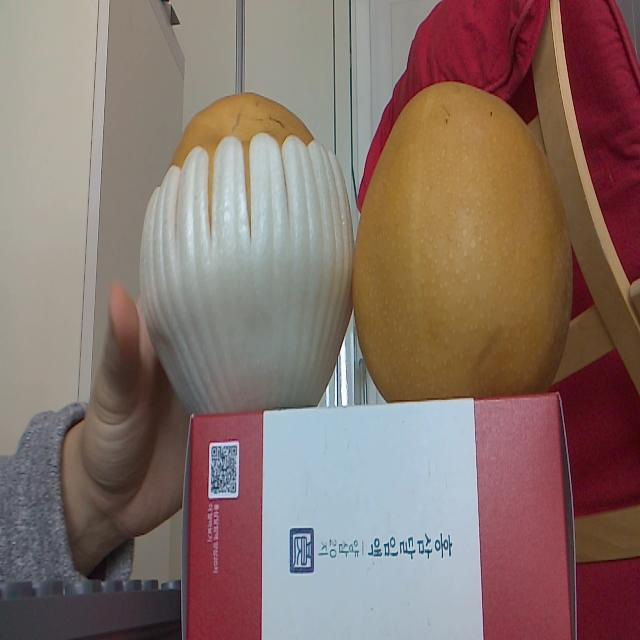pear: (138, 90, 352, 408), (354, 82, 572, 391)
